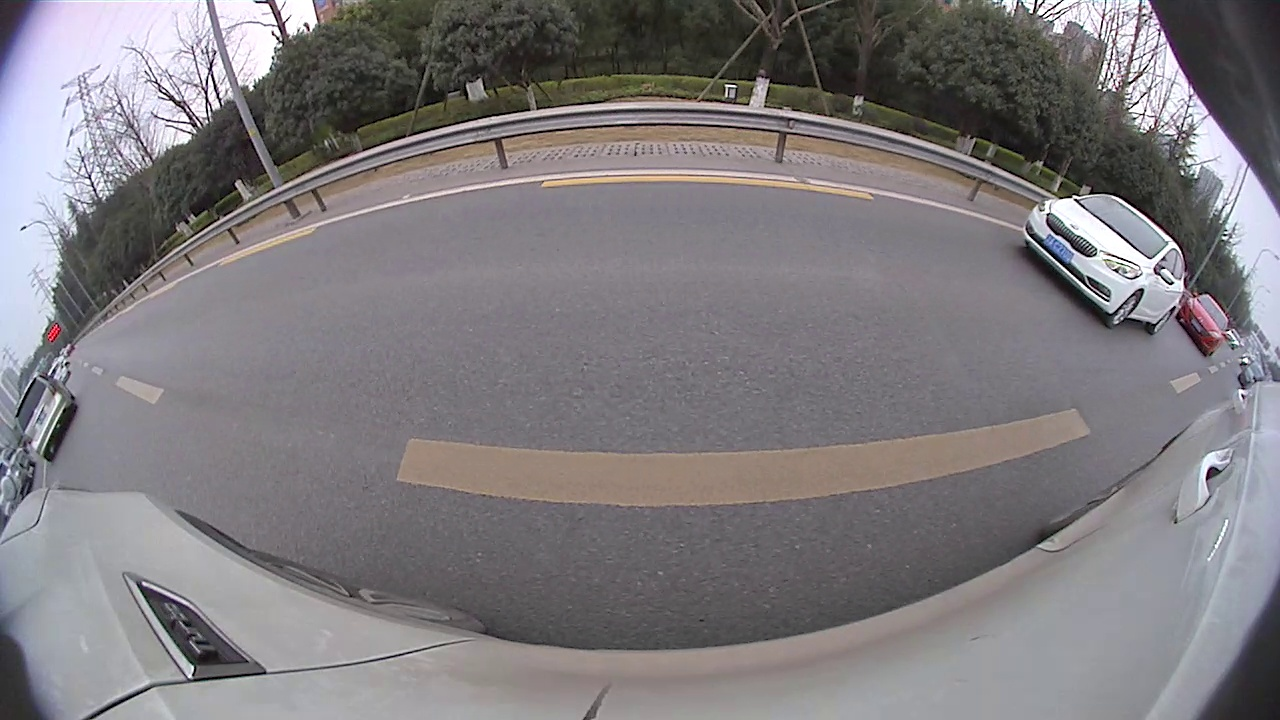car: (1, 335, 154, 519), (9, 256, 234, 363), (554, 135, 639, 208), (644, 147, 674, 186), (515, 167, 542, 193), (538, 160, 557, 196)
front: (20, 420, 121, 522), (182, 286, 223, 327)
